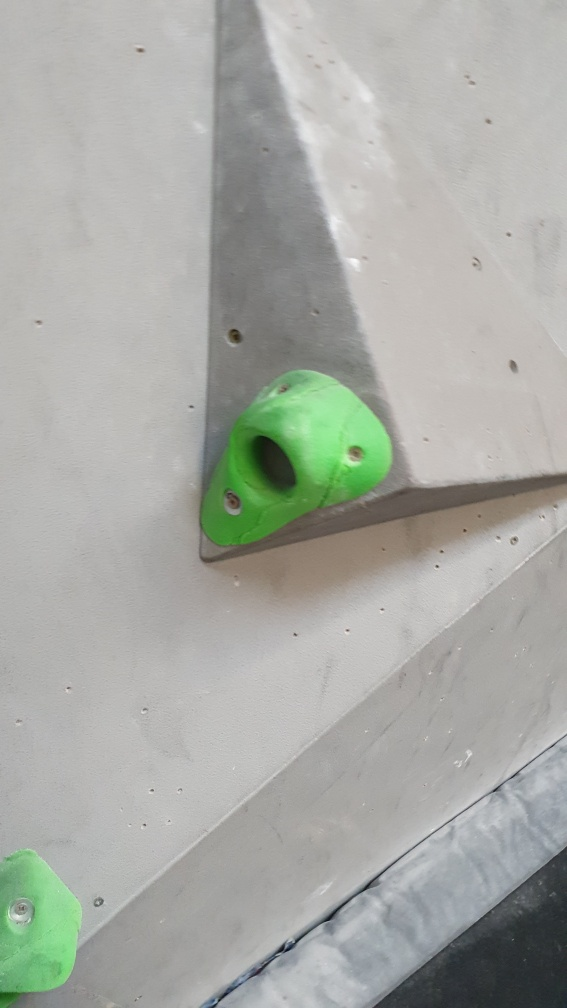Pocket: (196, 367, 396, 547)
